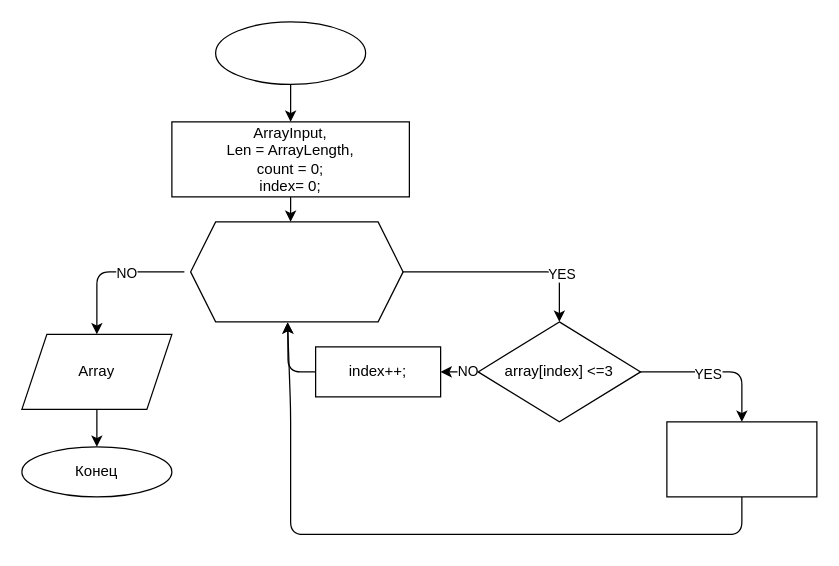
Some shapes in this 839 by 566 pixel diagram are drawn without their labels. The shapes that lost their labels are listed below. From the top down, each one's centre as x and y in pixels, then its label:
[290,52]: Начало
[296,271]: index < Len
[741,459]: array[count] = array[index] count++; index++;
